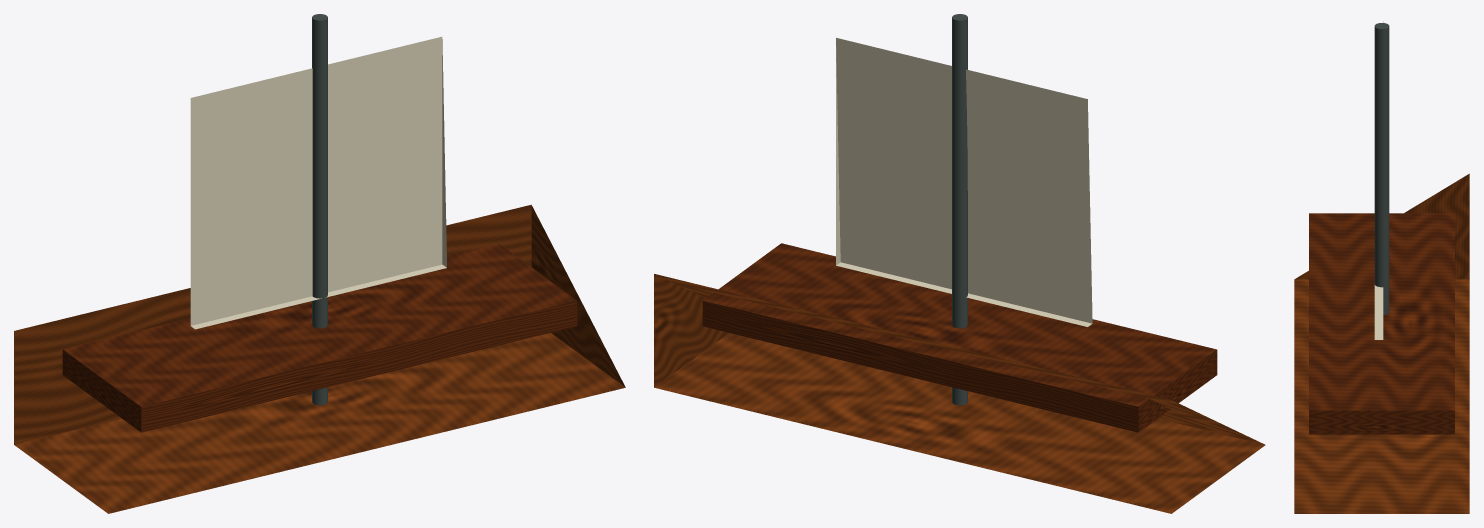
Rendered from boat.glb.
3 views of the same model, side by side, from view 1: azimuth 30°, elevation 25°; view 2: azimuth 150°, elevation 25°; view 3: azimuth 270°, elevation 25° (orthographic). The views are drawn at different scales.
Size of the model in its own units: 3.8 by 2.8 by 1.2.
4 materials, 2 textured.
